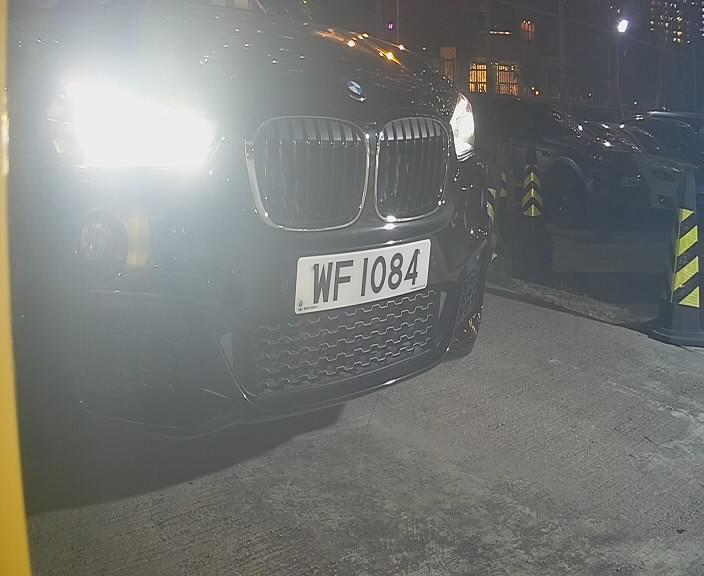License Plate: (280, 229, 434, 319)
